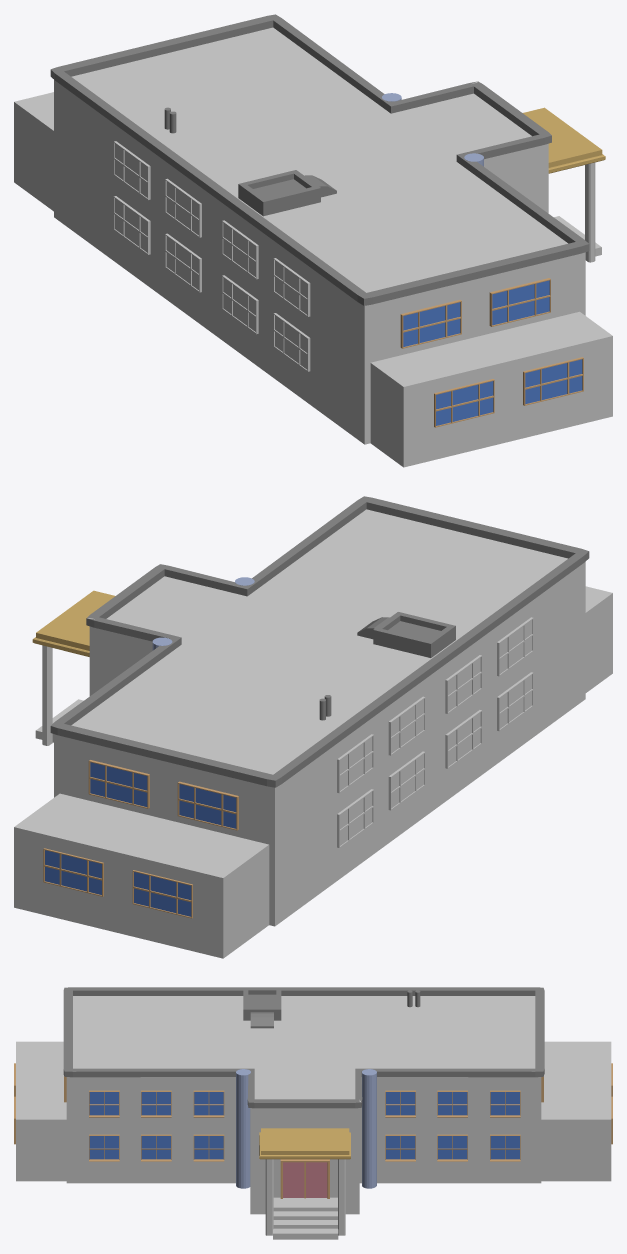
File: School2.fbx
The picture shows the model from 3 angles, top to bottom: view 1: azimuth 30°, elevation 25°; view 2: azimuth 150°, elevation 25°; view 3: azimuth 270°, elevation 25°; orthographic projection. The views are drawn at different scales.
Visible parts, largest first — view 1: Box009; view 2: Box009; view 3: Box009.
Boxes of the visible parts, x1,y1,x2,y2 form: Box009: [14, 14, 612, 467]; Box009: [14, 496, 612, 958]; Box009: [14, 987, 612, 1239].
Size of the model in its own units: 13491 by 5500 by 24424.
